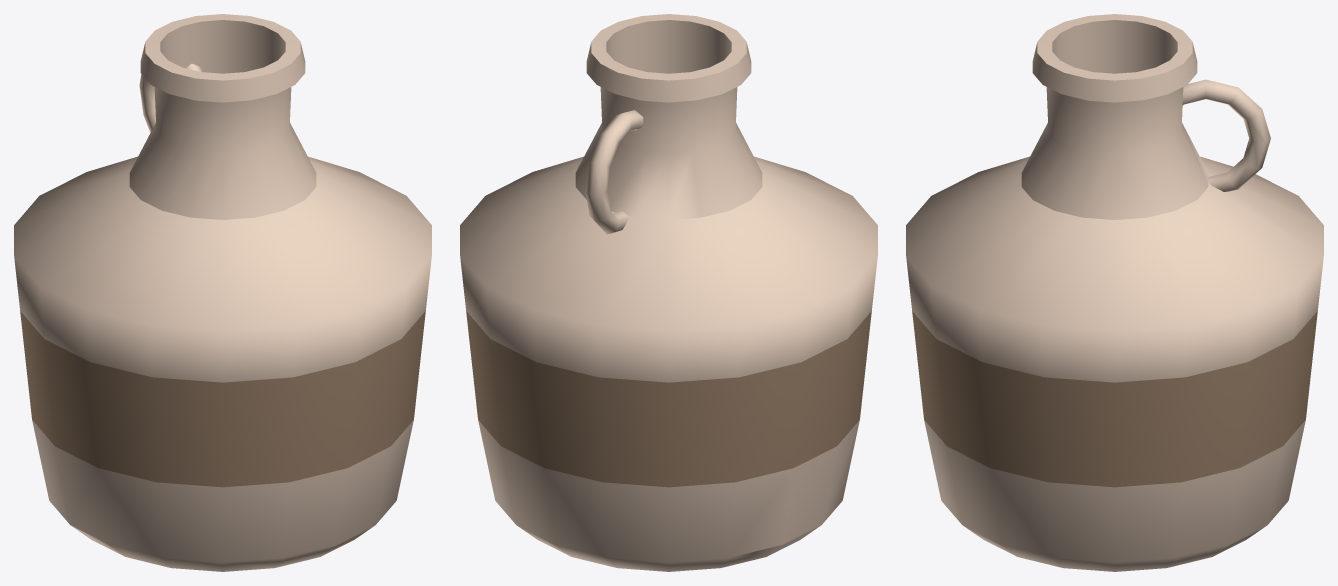
Rendered from Environment_Whiskey_Bottle_v01.fbx.
The picture shows the model from 3 angles, left to right: view 1: azimuth 30°, elevation 25°; view 2: azimuth 150°, elevation 25°; view 3: azimuth 270°, elevation 25°; orthographic projection.
Parts seen in each view (by area): view 1: Whiskey; view 2: Whiskey; view 3: Whiskey.
Boxes of the visible parts, <box> form: Whiskey: <box>14,14,431,571</box>; Whiskey: <box>460,14,877,571</box>; Whiskey: <box>906,14,1323,571</box>.
Size of the model in its own units: 58.33 by 71.08 by 57.45.
